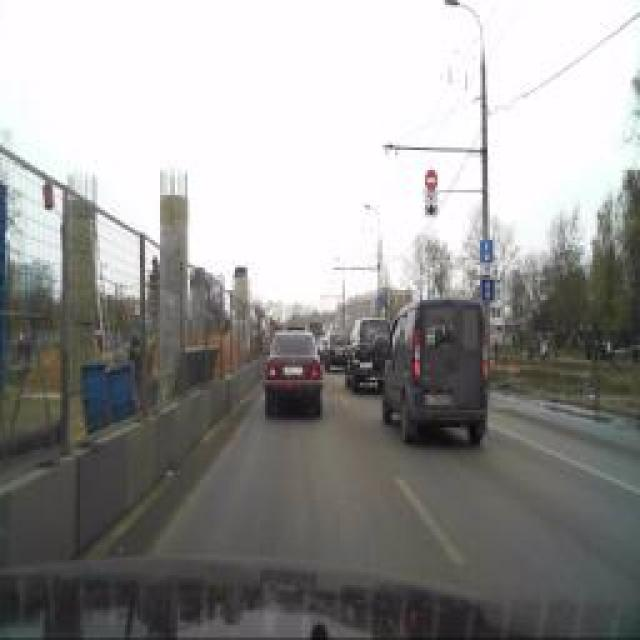sign: (425, 168, 437, 190)
